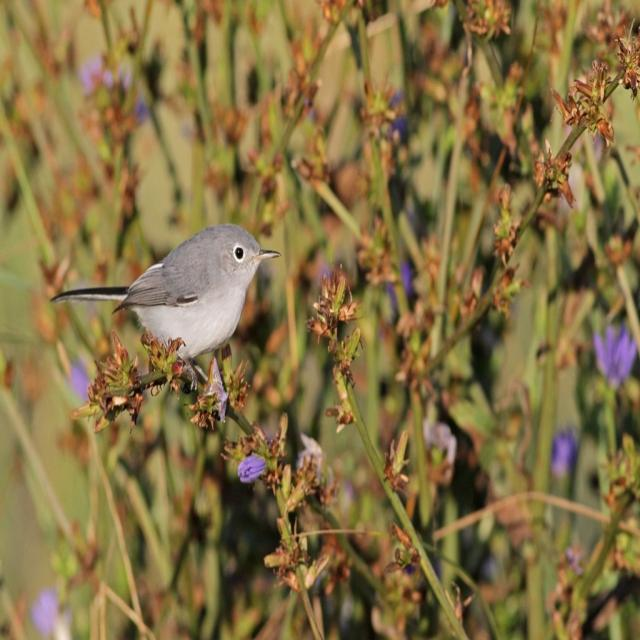bird: (31, 210, 276, 424)
